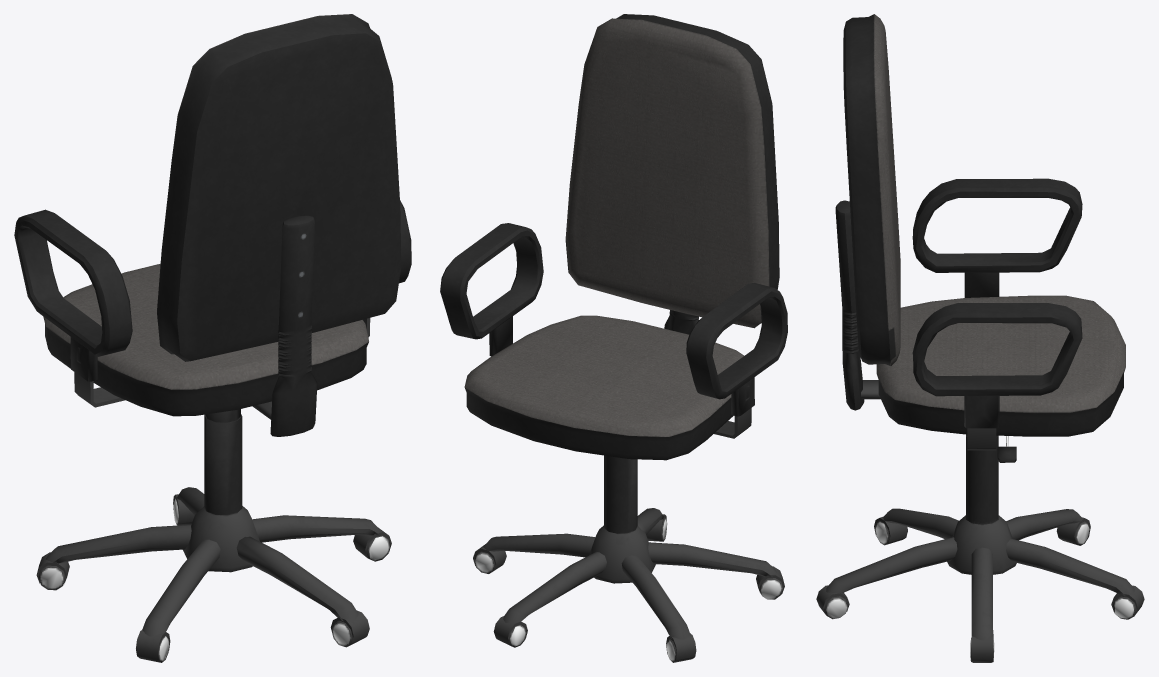
Rendered from office_chair.glb.
The picture shows the model from 3 angles, left to right: view 1: azimuth 30°, elevation 25°; view 2: azimuth 150°, elevation 25°; view 3: azimuth 270°, elevation 25°; orthographic projection. The views are drawn at different scales.
Parts seen in each view (by area): view 1: office/office_chair; view 2: office/office_chair; view 3: office/office_chair.
Boxes of the visible parts, x1,y1,x2,y2 form: office/office_chair: [14, 14, 411, 662]; office/office_chair: [440, 14, 787, 662]; office/office_chair: [816, 14, 1144, 662].
Size of the model in its own units: 0.5517 by 1.01 by 0.5433.
1 material, 1 textured.
